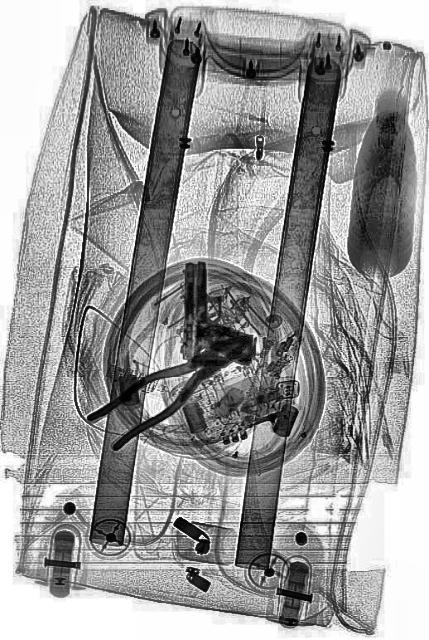Gun: (176, 256, 262, 368)
Pliers: (84, 310, 260, 460)
